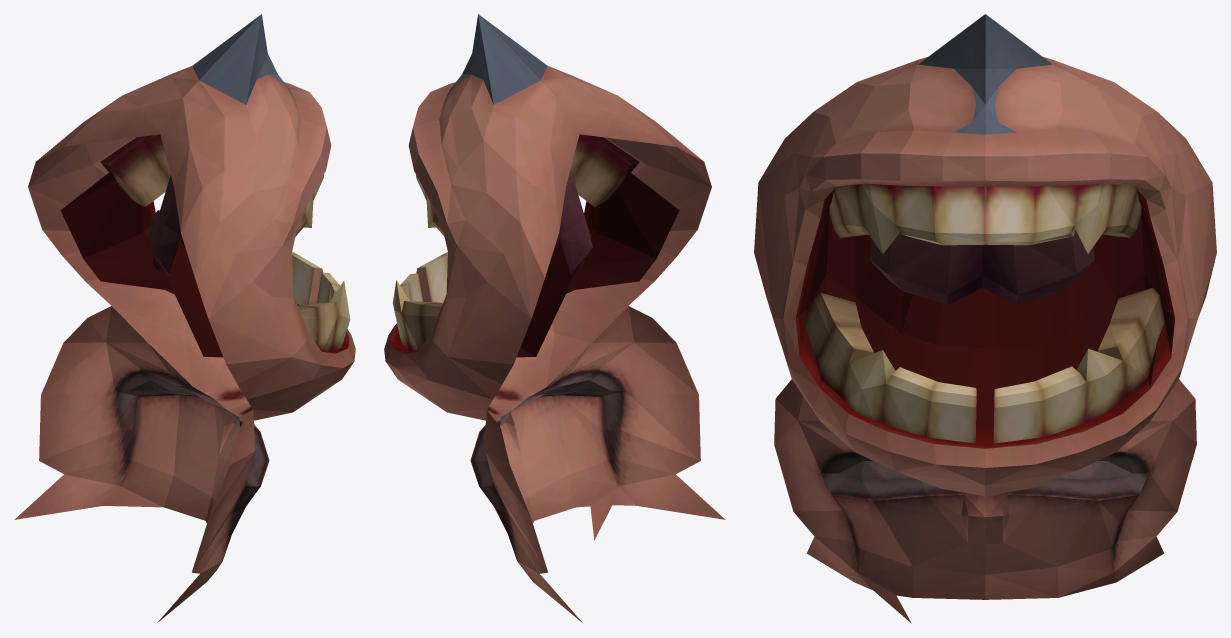
The model's file is MiyamotoFace04.dae.
The picture shows the model from 3 angles, left to right: view 1: azimuth 30°, elevation 25°; view 2: azimuth 150°, elevation 25°; view 3: azimuth 270°, elevation 25°; orthographic projection. The views are drawn at different scales.
Visible parts, largest first — view 1: m1, m0; view 2: m1, m0; view 3: m1, m0.
Part boxes in pixels (x1,y1,x2,y2): m1: [14, 65, 355, 622]; m0: [60, 14, 349, 559]; m1: [384, 65, 725, 622]; m0: [390, 14, 679, 559]; m1: [754, 57, 1216, 623]; m0: [795, 14, 1175, 571].
Size of the model in its own units: 55.86 by 112 by 70.92.
Materials: 2 (2 with a texture image).
